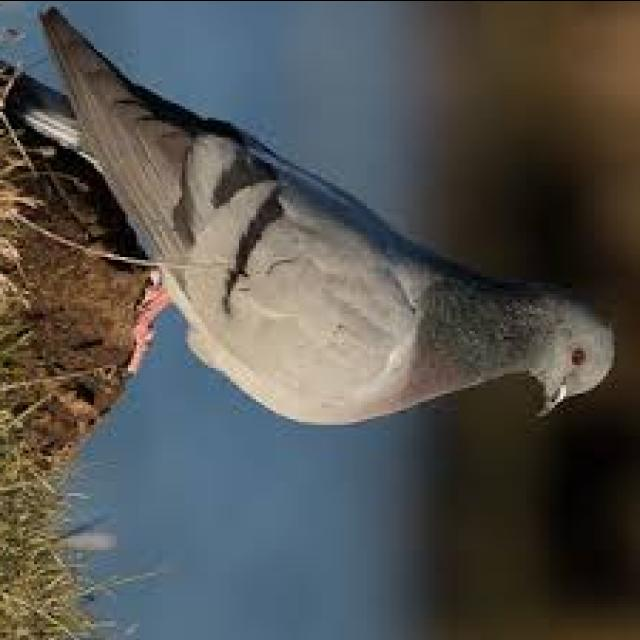pigeon: (0, 0, 623, 441)
